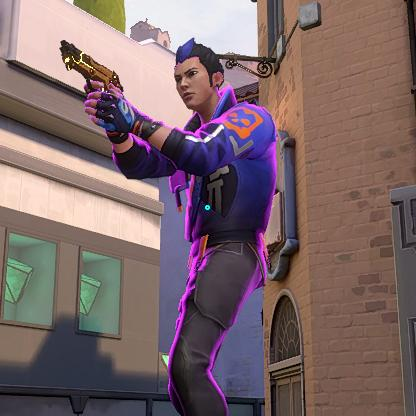enemyBody: (180, 128, 262, 251)
enemyHead: (175, 54, 230, 117)
